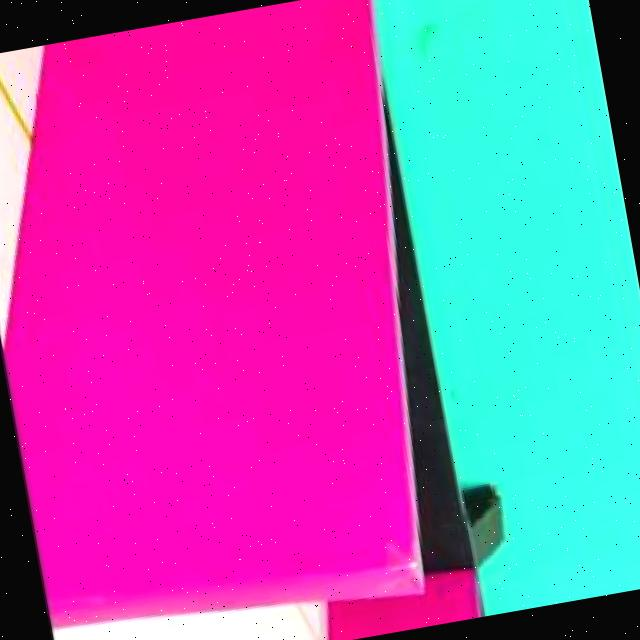xparking: (0, 0, 409, 616), (324, 585, 472, 640)
